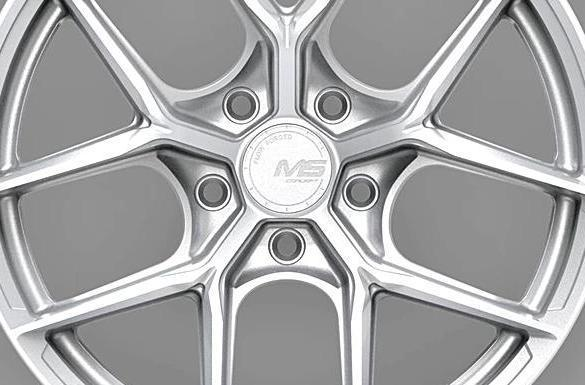hole: (267, 226, 306, 266), (342, 173, 380, 212), (312, 87, 352, 124), (222, 87, 260, 124), (196, 175, 230, 210)
